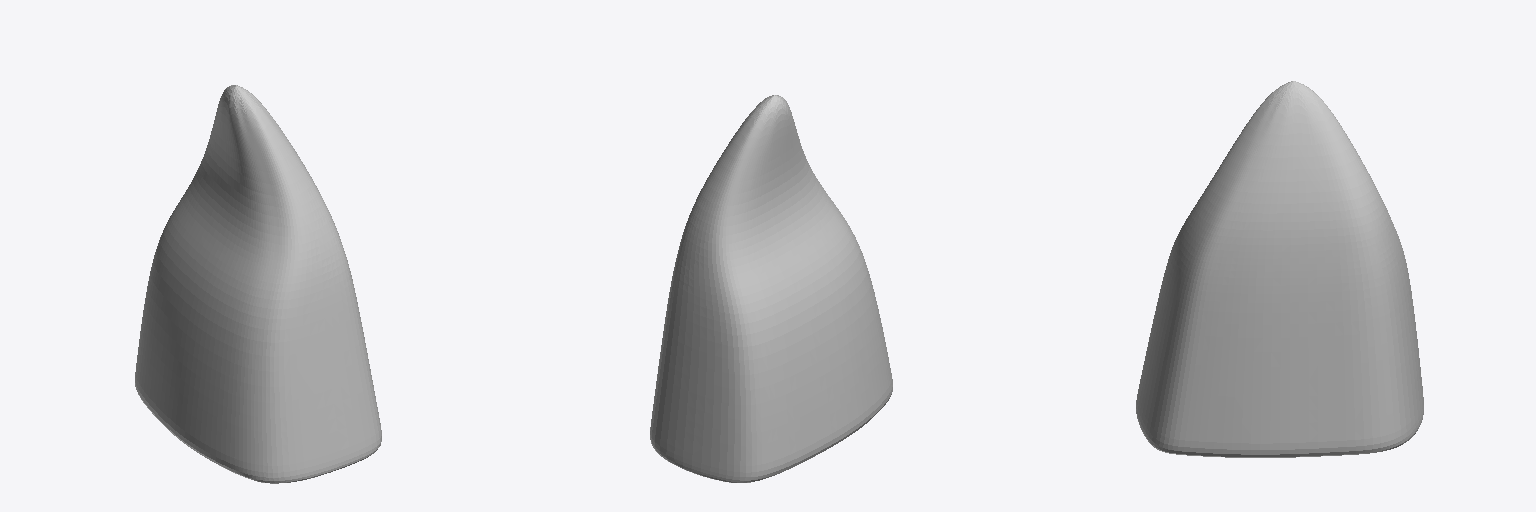
File: corte trans 2.obj
3 renders of one model, left to right at view 1: azimuth 30°, elevation 25°; view 2: azimuth 150°, elevation 25°; view 3: azimuth 270°, elevation 25°, orthographic.
Parts seen in each view (by area): view 1: Cylinder_Cylinder.002; view 2: Cylinder_Cylinder.002; view 3: Cylinder_Cylinder.002.
Boxes of the visible parts, box(x1,y1,x2,y2) form: Cylinder_Cylinder.002: box(135, 85, 381, 483); Cylinder_Cylinder.002: box(650, 95, 892, 482); Cylinder_Cylinder.002: box(1136, 81, 1423, 457).
Bounding box in the file's own units: 1.06 × 2.09 × 1.62.